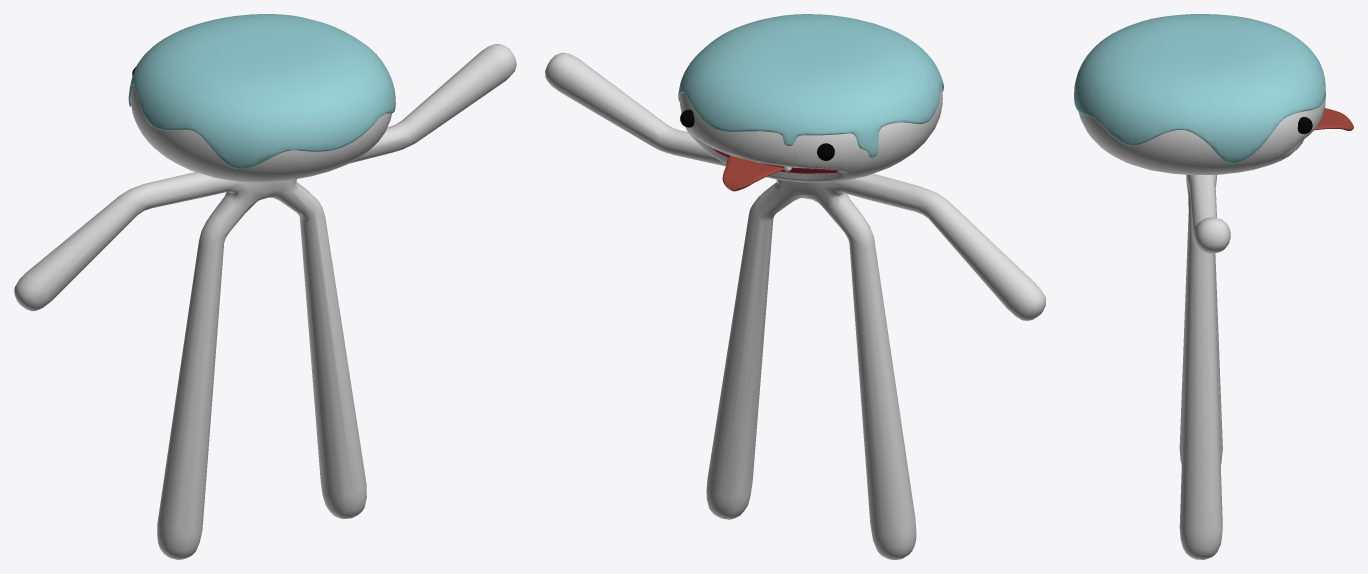
File: blember.fbx
The picture shows the model from 3 angles, left to right: view 1: azimuth 30°, elevation 25°; view 2: azimuth 150°, elevation 25°; view 3: azimuth 270°, elevation 25°; orthographic projection. The views are drawn at different scales.
Visible parts, largest first — view 1: Vert, Vert.001; view 2: Vert, Vert.001, Plane; view 3: Vert.001, Vert, Plane.
Part boxes in pixels (x1,y1,x2,y2): Vert: (14,44,516,559); Vert.001: (128,14,395,168); Vert: (545,52,1045,559); Vert.001: (678,14,943,157); Plane: (722,155,784,191); Vert.001: (1074,14,1325,163); Vert: (1078,91,1325,559); Plane: (1314,108,1353,130).
Bounding box in the file's own units: 487 × 461 × 247.
